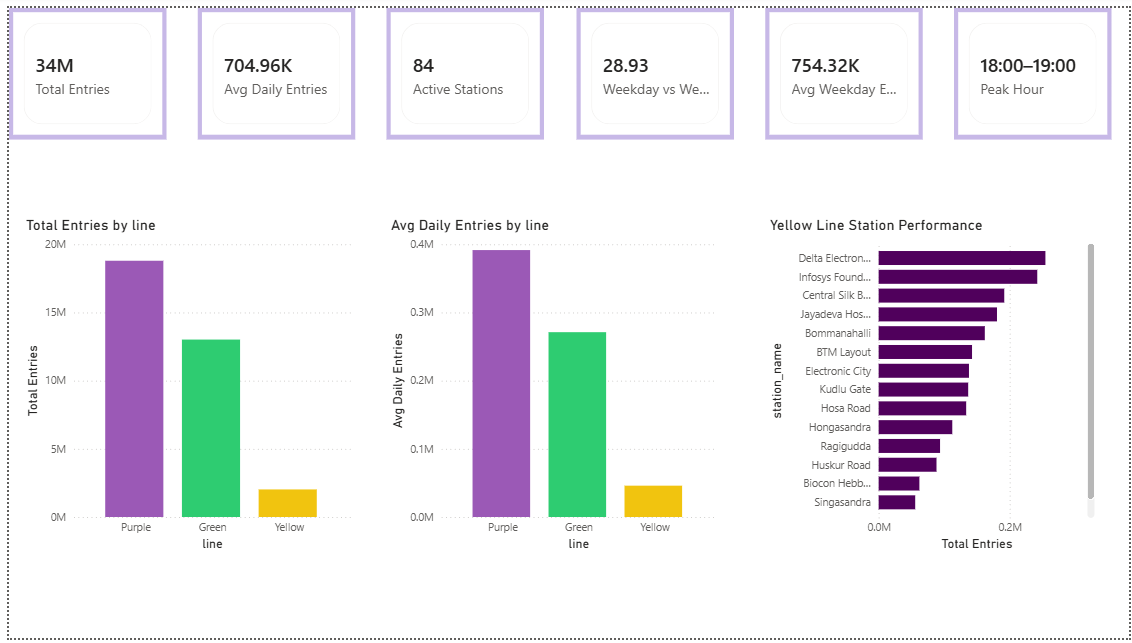

Layout of this report page (visuals, bound fields, positions):
{"tool":"powerbi","page":{"name":"Line Comparison","canvas":[1280,720],"ordinal":3},"visuals":[{"type":"cardVisual","fields":{"Data":["powerbi_ridership.Total Entries"]},"box":[0,0,180,150],"z":0},{"type":"cardVisual","fields":{"Data":["powerbi_ridership.Avg Daily Entries"]},"box":[216,0,180,150],"z":1000},{"type":"cardVisual","fields":{"Data":["powerbi_ridership.Active Stations"]},"box":[432,0,180,150],"z":2000},{"type":"cardVisual","fields":{"Data":["powerbi_ridership.Weekday vs Weekend %"]},"box":[648,0,180,150],"z":3000},{"type":"cardVisual","fields":{"Data":["powerbi_ridership.Peak Hour"]},"box":[1080,0,180,150],"z":4000},{"type":"cardVisual","fields":{"Data":["powerbi_ridership.Avg Weekday Entries"]},"box":[864,0,180,150],"z":5000},{"type":"clusteredColumnChart","fields":{"Category":["powerbi_ridership.line"],"Y":["powerbi_ridership.Total Entries"]},"box":[14.3,237.1,381.4,388.6],"z":5001},{"type":"clusteredColumnChart","fields":{"Category":["powerbi_ridership.line"],"Y":["powerbi_ridership.Avg Daily Entries"]},"box":[431.4,237.1,381.4,388.6],"z":5002},{"type":"clusteredBarChart","fields":{"Category":["powerbi_ridership.station_name"],"Y":["powerbi_ridership.Total Entries"]},"box":[864.3,237.1,381.4,388.6],"z":5003}]}

Visuals, with their boxes in screenshot pixels (x1, y1, x2, y2), scaled from the page's 1280x720 canvas onto the 1132x643 screenshot:
cardVisual - powerbi_ridership.Total Entries: {"left": 0, "top": 0, "right": 159, "bottom": 134}
cardVisual - powerbi_ridership.Avg Daily Entries: {"left": 191, "top": 0, "right": 350, "bottom": 134}
cardVisual - powerbi_ridership.Active Stations: {"left": 382, "top": 0, "right": 541, "bottom": 134}
cardVisual - powerbi_ridership.Weekday vs Weekend %: {"left": 573, "top": 0, "right": 732, "bottom": 134}
cardVisual - powerbi_ridership.Peak Hour: {"left": 955, "top": 0, "right": 1114, "bottom": 134}
cardVisual - powerbi_ridership.Avg Weekday Entries: {"left": 764, "top": 0, "right": 923, "bottom": 134}
clusteredColumnChart - powerbi_ridership.line x powerbi_ridership.Total Entries: {"left": 13, "top": 212, "right": 350, "bottom": 559}
clusteredColumnChart - powerbi_ridership.line x powerbi_ridership.Avg Daily Entries: {"left": 382, "top": 212, "right": 719, "bottom": 559}
clusteredBarChart - powerbi_ridership.station_name x powerbi_ridership.Total Entries: {"left": 764, "top": 212, "right": 1102, "bottom": 559}
